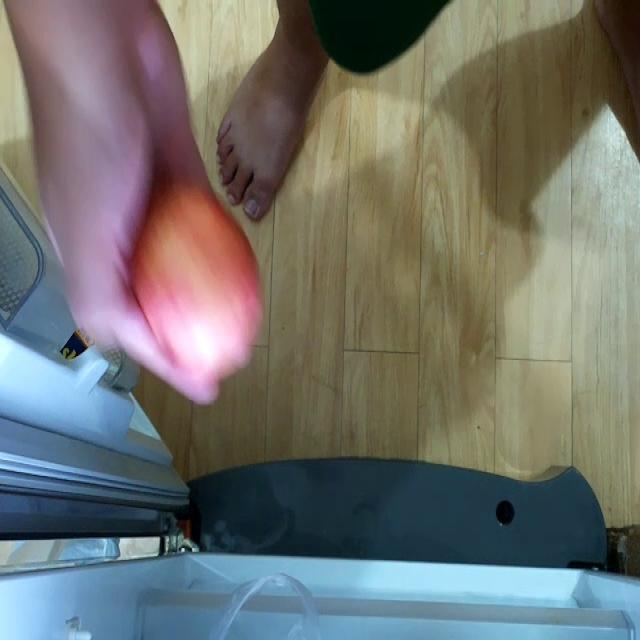apple: (134, 196, 268, 396)
